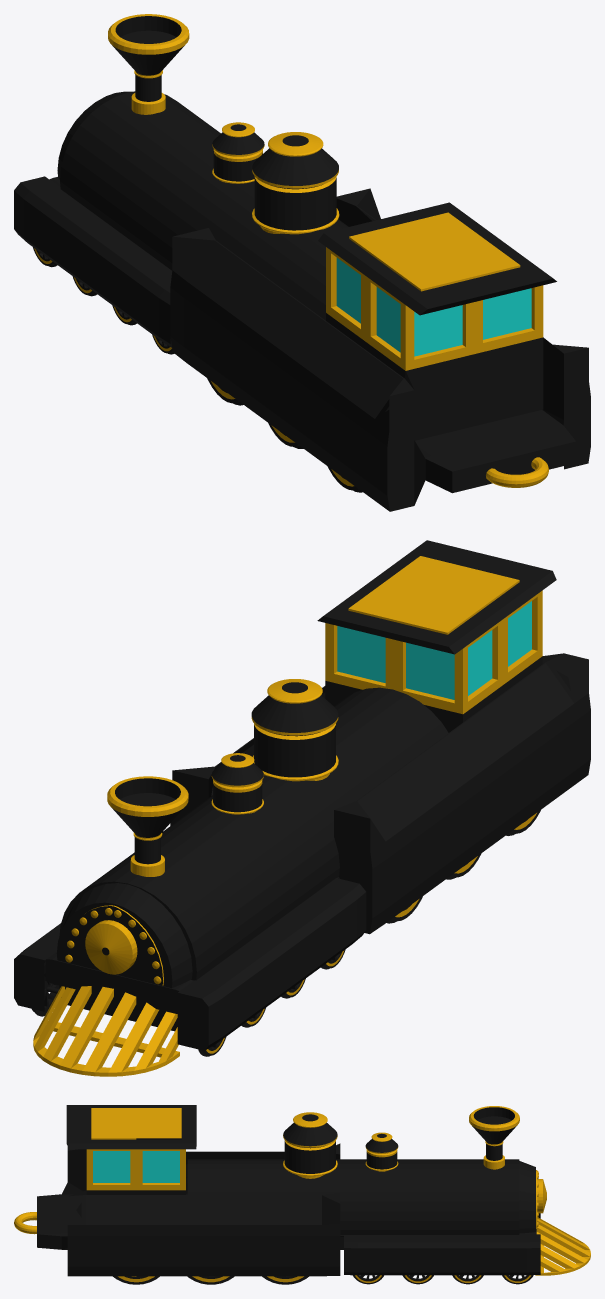
File: TrainLoc.fbx
3 renders of one model, top to bottom at view 1: azimuth 30°, elevation 25°; view 2: azimuth 150°, elevation 25°; view 3: azimuth 270°, elevation 25°, orthographic. The views are drawn at different scales.
Parts seen in each view (by area): view 1: Cube; view 2: Cube, Cube.001; view 3: Cube, Circle.001, Circle.002, Circle.003.
Part boxes in pixels (bbox=[...]): Cube: bbox=[14, 14, 590, 511]; Cube: bbox=[14, 540, 590, 1076]; Cube.001: bbox=[59, 985, 177, 1031]; Cube: bbox=[14, 1105, 590, 1276]; Circle.001: bbox=[186, 1176, 234, 1284]; Circle.002: bbox=[113, 1276, 159, 1284]; Circle.003: bbox=[262, 1276, 308, 1284].
Bounding box in the file's own units: 887 × 951 × 3480.
